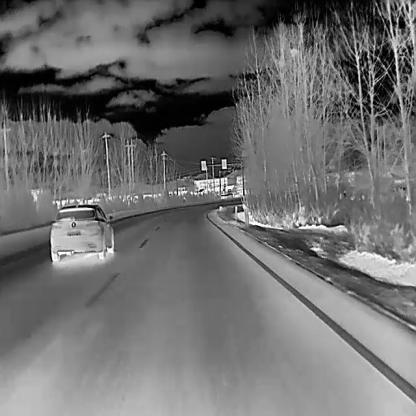car: (50, 202, 114, 262)
